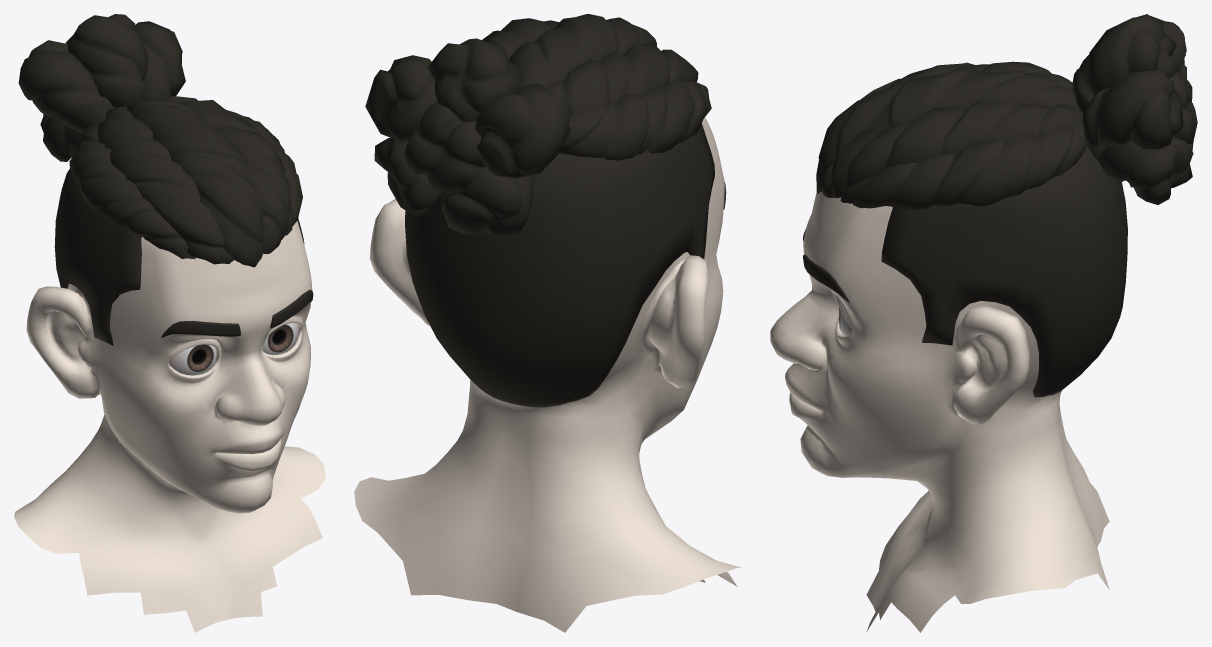
The model's file is ship_snow.glb.
3 views of the same model, side by side, from view 1: azimuth 30°, elevation 25°; view 2: azimuth 150°, elevation 25°; view 3: azimuth 270°, elevation 25° (orthographic). The views are drawn at different scales.
Visible parts, largest first — view 1: GEO-snow-head, GEO-snow-hair_base, GEO-snow-eyes, GEO-snow-eyebrows; view 2: GEO-snow-hair_base, GEO-snow-head; view 3: GEO-snow-hair_base, GEO-snow-head, GEO-snow-eyebrows.
Boxes of the visible parts, x1,y1,x2,y2 form: GEO-snow-head: (14, 221, 325, 632); GEO-snow-hair_base: (18, 14, 304, 345); GEO-snow-eyes: (168, 322, 299, 375); GEO-snow-eyebrows: (161, 289, 313, 337); GEO-snow-hair_base: (365, 14, 714, 407); GEO-snow-head: (354, 117, 741, 632); GEO-snow-hair_base: (816, 14, 1197, 397); GEO-snow-head: (770, 191, 1109, 632); GEO-snow-eyebrows: (803, 229, 849, 302).
Bounding box in the file's own units: 0.3091 × 0.5191 × 0.3398.
Materials: 9 (1 with a texture image).
